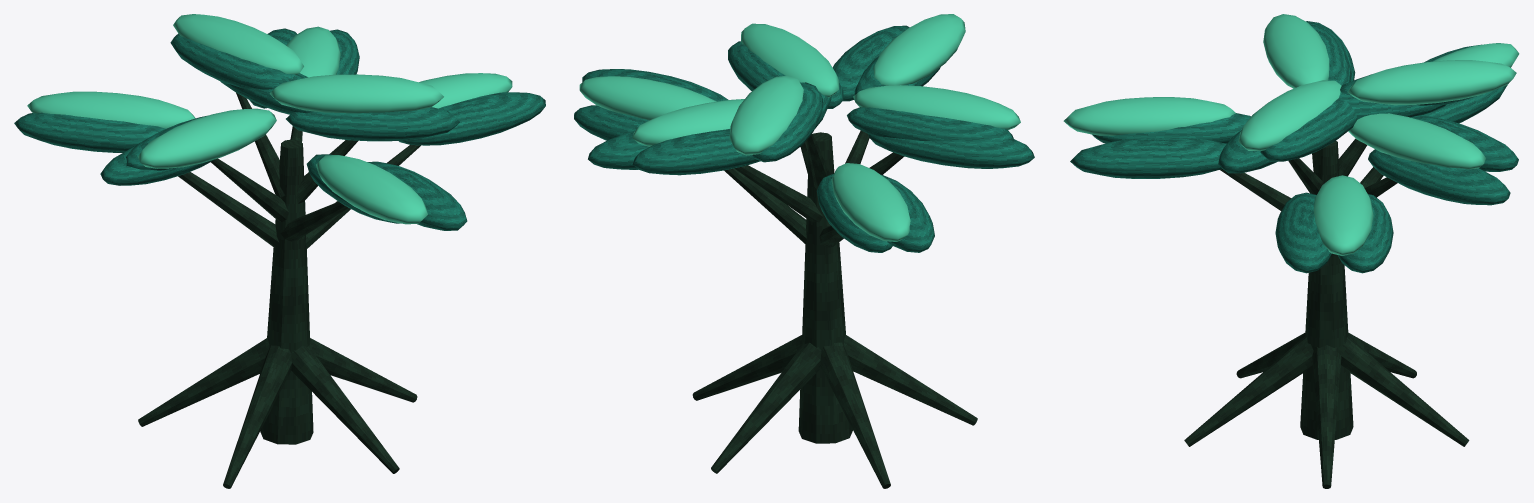
The model's file is planta-5.glb.
The picture shows the model from 3 angles, left to right: view 1: azimuth 30°, elevation 25°; view 2: azimuth 150°, elevation 25°; view 3: azimuth 270°, elevation 25°; orthographic projection. The views are drawn at different scales.
Parts seen in each view (by area): view 1: Folhagem.012, Tronco.015, Folhagem.009; view 2: Folhagem.012, Folhagem.009, Tronco.015; view 3: Folhagem.012, Folhagem.009, Tronco.015.
Boxes of the visible parts, left/top/right/bottom form: Folhagem.012: left=27, top=14, right=512, bottom=224; Tronco.015: left=138, top=92, right=420, bottom=488; Folhagem.009: left=14, top=28, right=545, bottom=230; Folhagem.012: left=579, top=14, right=1020, bottom=241; Folhagem.009: left=574, top=25, right=1034, bottom=252; Tronco.015: left=692, top=130, right=977, bottom=488; Folhagem.012: left=1063, top=14, right=1519, bottom=255; Folhagem.009: left=1070, top=21, right=1518, bottom=273; Tronco.015: left=1184, top=138, right=1469, bottom=488.
Bounding box in the file's own units: 1.29 × 1.01 × 1.15.
Materials: 3 (2 with a texture image).
